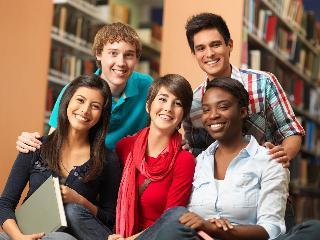person - v3 P: (2, 74, 126, 238), (193, 0, 320, 157), (114, 79, 200, 235), (187, 76, 289, 182), (92, 22, 160, 144)
